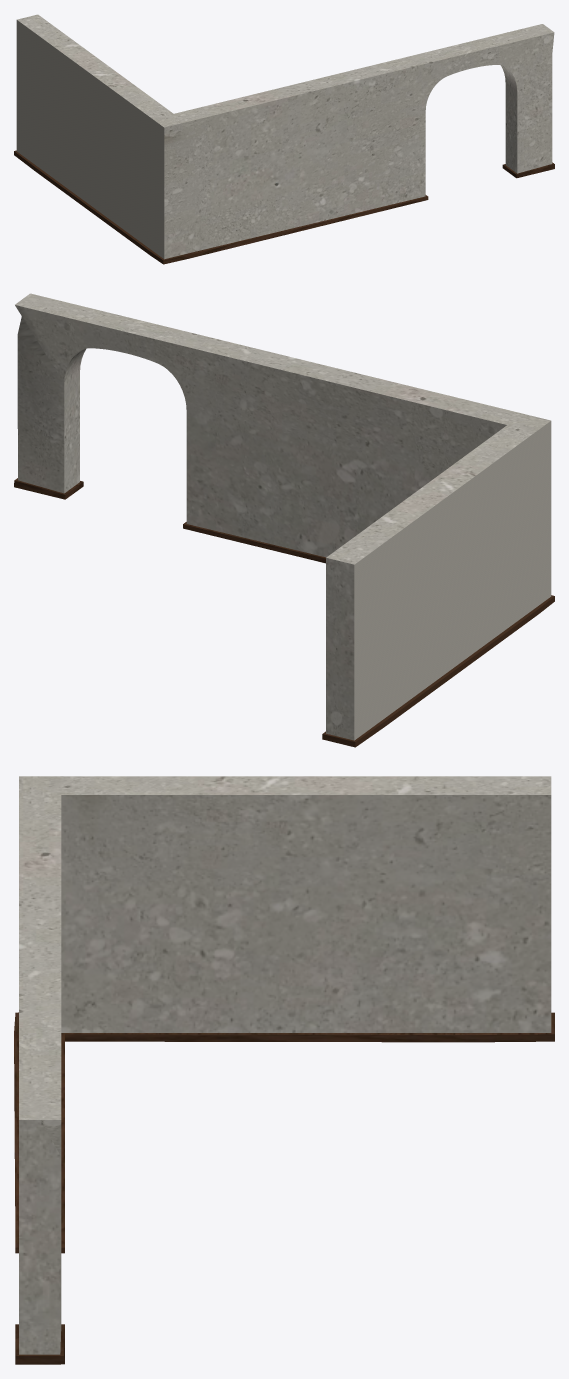
Rendered from AssetEsc5.01.fbx.
3 renders of one model, top to bottom at view 1: azimuth 30°, elevation 25°; view 2: azimuth 150°, elevation 25°; view 3: azimuth 270°, elevation 25°, orthographic. The views are drawn at different scales.
Parts seen in each view (by area): view 1: Cube.004; view 2: Cube.004; view 3: Cube.004.
Part boxes in pixels (bbox=[...]): Cube.004: bbox=[14, 14, 554, 264]; Cube.004: bbox=[14, 293, 554, 747]; Cube.004: bbox=[14, 776, 554, 1364].
Size of the model in its own units: 605 by 200 by 400.
Materials: 2 (2 with a texture image).
